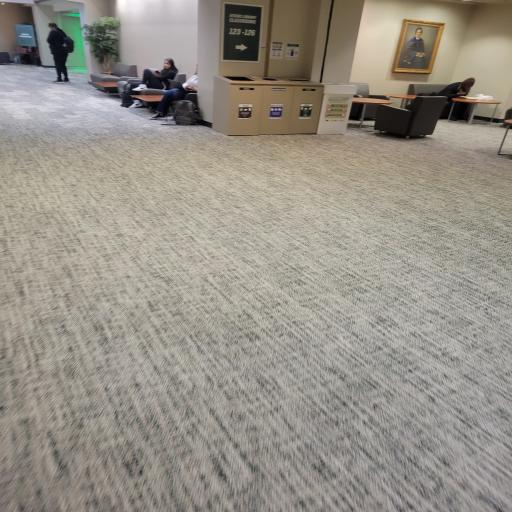chair: (380, 93, 450, 147)
trash cans: (212, 74, 326, 142)
